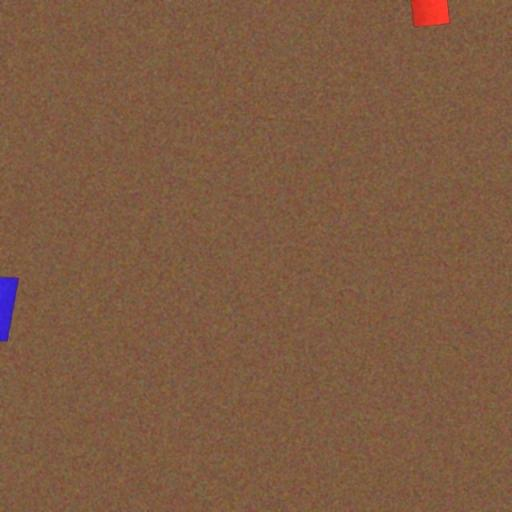RED_SQUARE: (410, 0, 450, 28)
